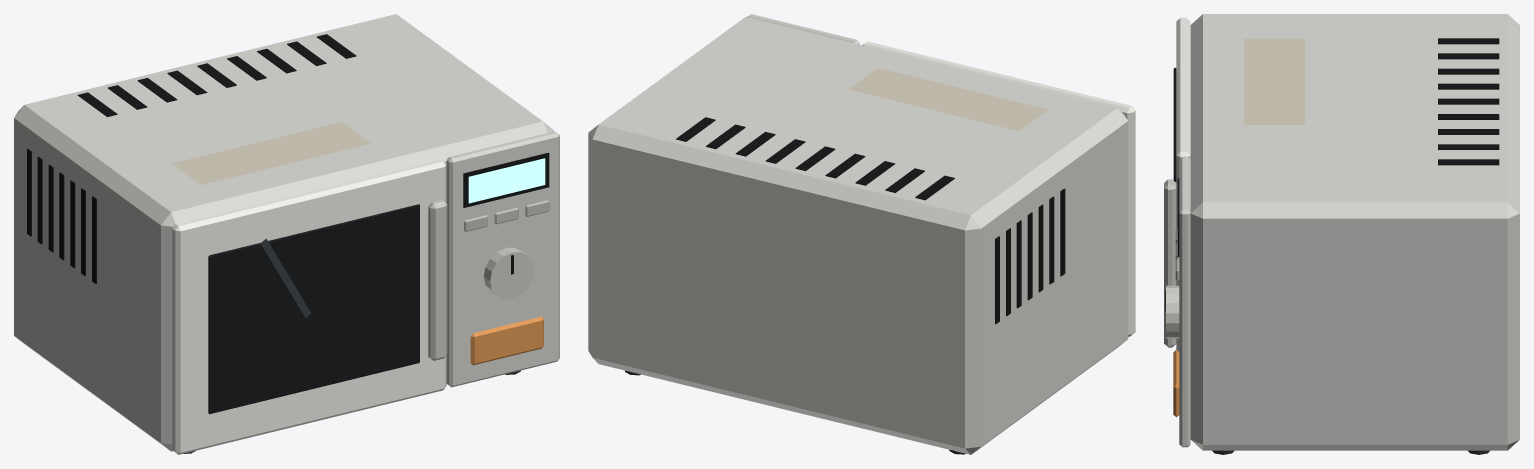
The model's file is microwave.glb.
The picture shows the model from 3 angles, left to right: view 1: azimuth 30°, elevation 25°; view 2: azimuth 150°, elevation 25°; view 3: azimuth 270°, elevation 25°; orthographic projection. The views are drawn at different scales.
Parts seen in each view (by area): view 1: microwave; view 2: microwave; view 3: microwave.
Boxes of the visible parts, left/top/right/bottom form: microwave: left=14, top=14, right=559, bottom=454; microwave: left=588, top=14, right=1135, bottom=454; microwave: left=1164, top=14, right=1519, bottom=454.
Bounding box in the file's own units: 0.4612 × 0.2808 × 0.348.
